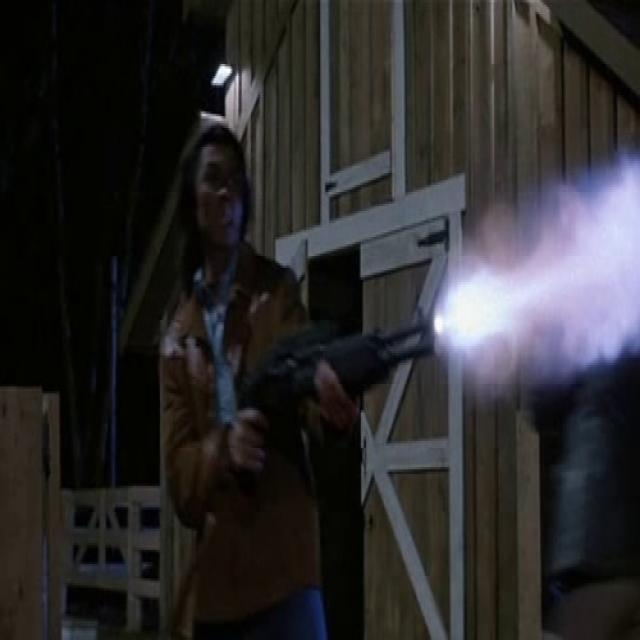rifle: (230, 298, 454, 449)
